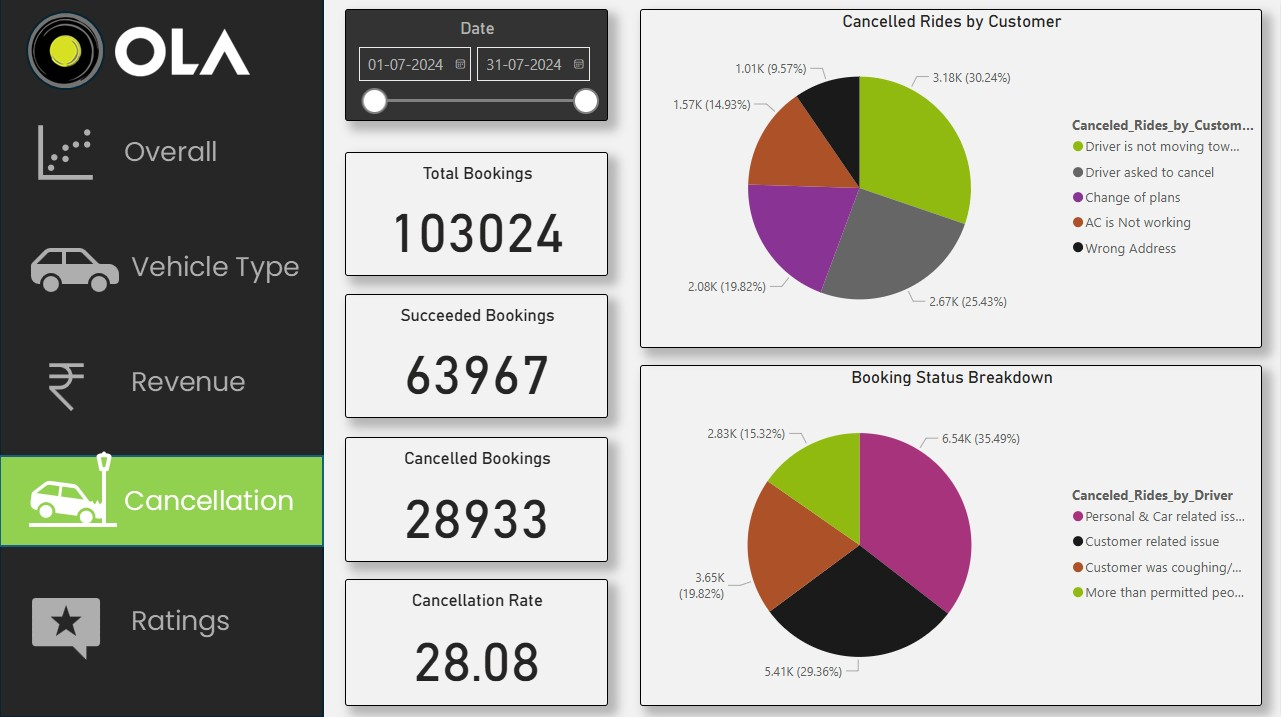

What the dashboard file says about the page in this screenshot:
{"tool":"powerbi","page":{"name":"Cancellation","canvas":[1280,720],"ordinal":3},"visuals":[{"type":"actionButton","box":[0,225.7,324,89.6],"z":0},{"type":"actionButton","box":[0,342.4,324,89.6],"z":1000},{"type":"actionButton","box":[0,580.4,324,89.6],"z":2000},{"type":"actionButton","box":[0,107.1,324,89.6],"z":3000},{"type":"pieChart","title":"Cancelled Rides by Customer","fields":{"Category":["July.Canceled_Rides_by_Customer"],"Y":["CountNonNull(July.Canceled_Rides_by_Driver)"]},"box":[640,10,622,339],"z":4000},{"type":"pieChart","title":"Booking Status Breakdown","fields":{"Category":["July.Canceled_Rides_by_Driver"],"Y":["CountNonNull(July.Canceled_Rides_by_Driver)"]},"box":[640,366,622,341],"z":5000},{"type":"slicer","title":"Date","fields":{"Values":["July.Date"]},"box":[345,10,263,112],"z":6000},{"type":"card","title":"Total Bookings","fields":{"Values":["CountNonNull(July.Booking_ID)"]},"box":[345,153,263,124],"z":7000},{"type":"card","title":"Succeeded Bookings","fields":{"Values":["CountNonNull(July.Booking_ID)"]},"box":[345,295,263,124],"z":8000},{"type":"card","title":"Cancelled Bookings","fields":{"Values":["CountNonNull(July.Booking_ID)"]},"box":[345,438,263,125],"z":9000},{"type":"card","title":"Cancellation Rate","fields":{"Values":["July.CancelledPercentage"]},"box":[345,580,263,127],"z":10000}]}

Visuals, with their boxes on the page's 1280x720 design canvas (x1, y1, x2, y2). These are canvas units, not pixel positions in the 1281x717 screenshot, which may show the page scaled, cropped or inside an application window:
actionButton: [0, 226, 324, 315]
actionButton: [0, 342, 324, 432]
actionButton: [0, 580, 324, 670]
actionButton: [0, 107, 324, 197]
"Cancelled Rides by Customer" pieChart: [640, 10, 1262, 349]
"Booking Status Breakdown" pieChart: [640, 366, 1262, 707]
"Date" slicer: [345, 10, 608, 122]
"Total Bookings" card: [345, 153, 608, 277]
"Succeeded Bookings" card: [345, 295, 608, 419]
"Cancelled Bookings" card: [345, 438, 608, 563]
"Cancellation Rate" card: [345, 580, 608, 707]
